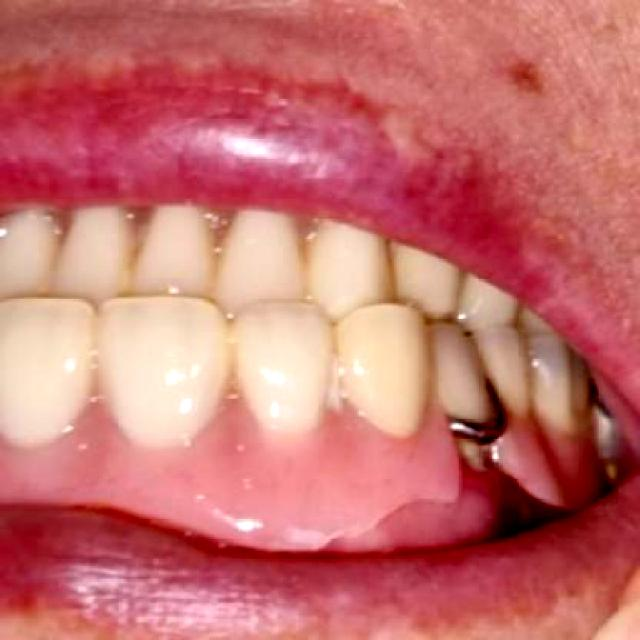Plaque: (461, 454, 511, 512)
